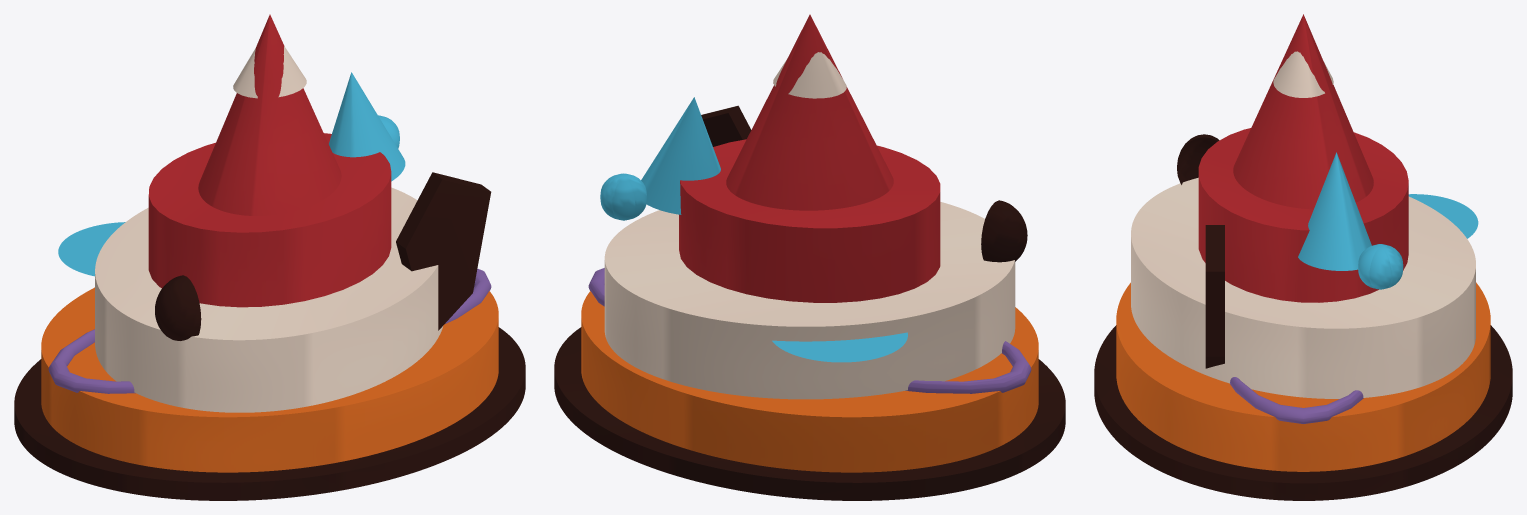
The model's file is 1167_海底两万里_海底火山.glb.
The picture shows the model from 3 angles, left to right: view 1: azimuth 30°, elevation 25°; view 2: azimuth 150°, elevation 25°; view 3: azimuth 270°, elevation 25°; orthographic projection. The views are drawn at different scales.
Visible parts, largest first — view 1: card_1167; view 2: card_1167; view 3: card_1167.
Boxes of the visible parts, <box> form: card_1167: <box>14,14,525,500</box>; card_1167: <box>554,14,1065,500</box>; card_1167: <box>1094,14,1512,500</box>.
Bounding box in the file's own units: 1.24 × 1 × 1.
